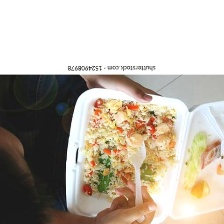foam_box: (59, 85, 224, 223)
